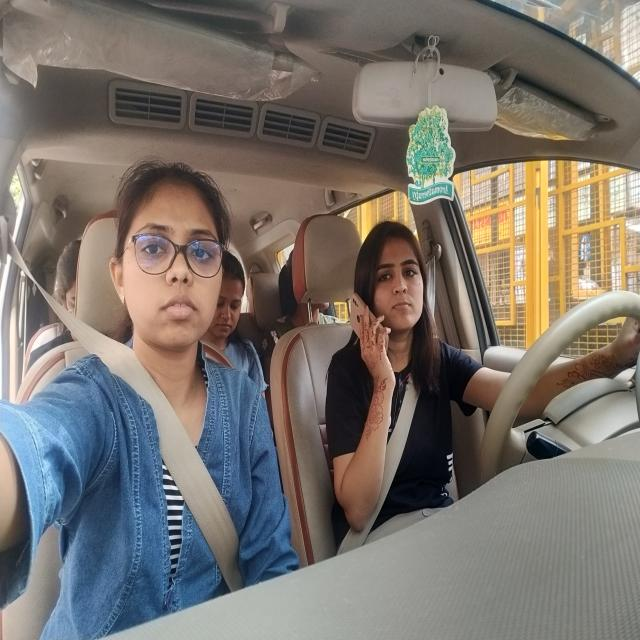mobile: (344, 305, 394, 363)
person: (113, 165, 225, 349), (360, 228, 432, 330), (229, 260, 252, 344), (56, 248, 78, 330), (294, 294, 345, 324)
